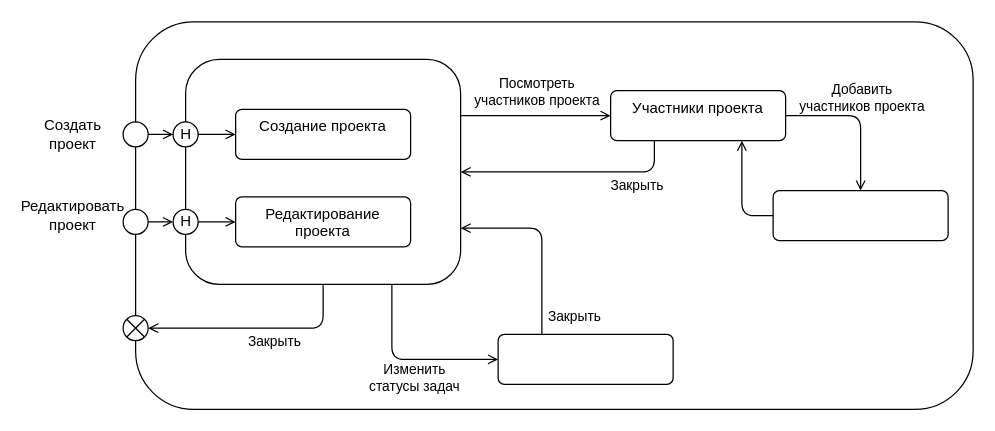
This 995x431 diagram has some shape labels left out. Each missing label, with the centre of its shape:
Добавление участников: (860,215)
Статусы задач: (585,358)
